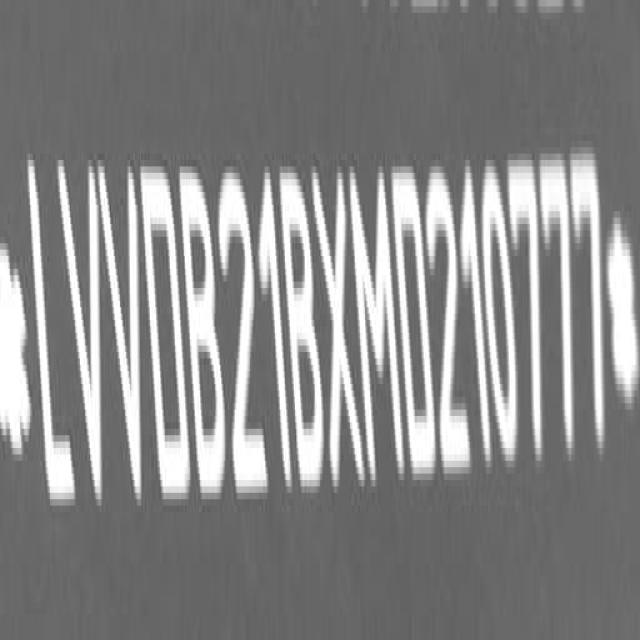0: (485, 164, 520, 474)
1: (456, 154, 498, 485), (258, 168, 294, 493)
2: (217, 159, 273, 505), (426, 156, 471, 486)
7: (539, 146, 586, 468), (507, 148, 553, 473), (571, 152, 605, 474)
B: (178, 161, 234, 509), (276, 157, 331, 498)
D: (136, 156, 194, 509), (390, 163, 438, 479)
L: (24, 154, 81, 512)
M: (346, 158, 408, 487)
V: (94, 159, 154, 513), (58, 161, 104, 510)
X: (312, 163, 365, 498)
